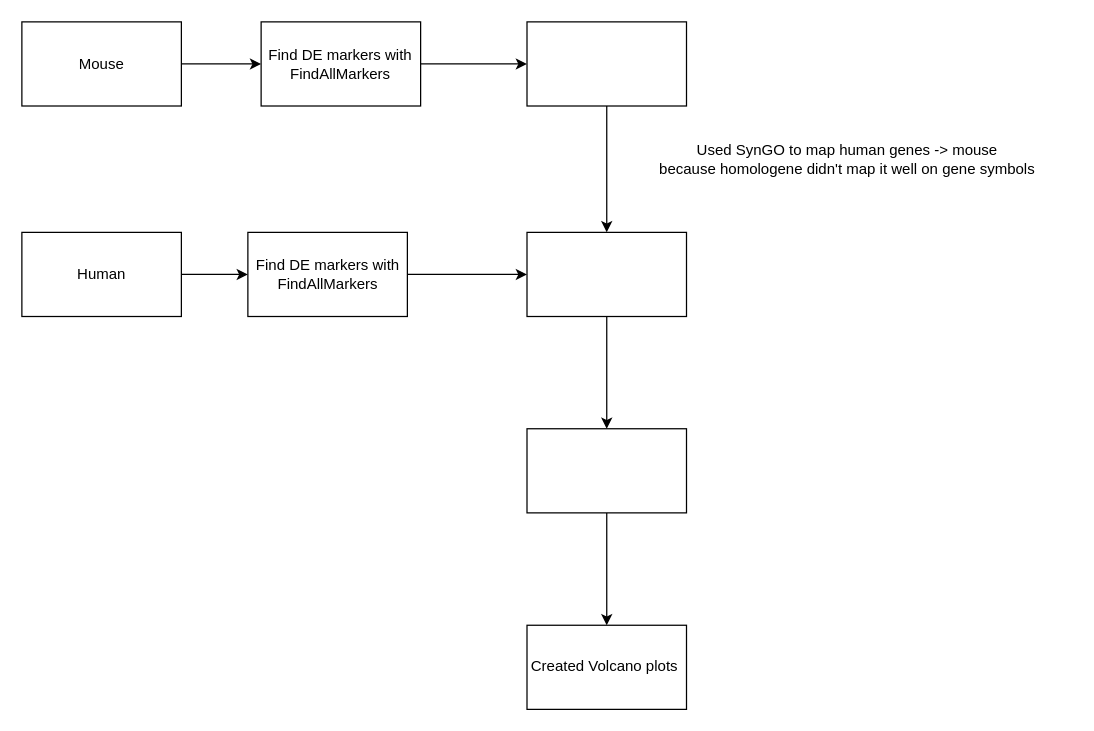
Image size: 1094x731. Some labels were removed from this diagram. The centre of each missing label's shape, as x and y in pixels:
Calculate Log2FC on subtype cells for every DE marker on data slot: pixel 606 273
Merged with FindAllMarker results to get p values: pixel 606 470
Retrieve human homologs using Homologene and remove NA genes: pixel 606 63
